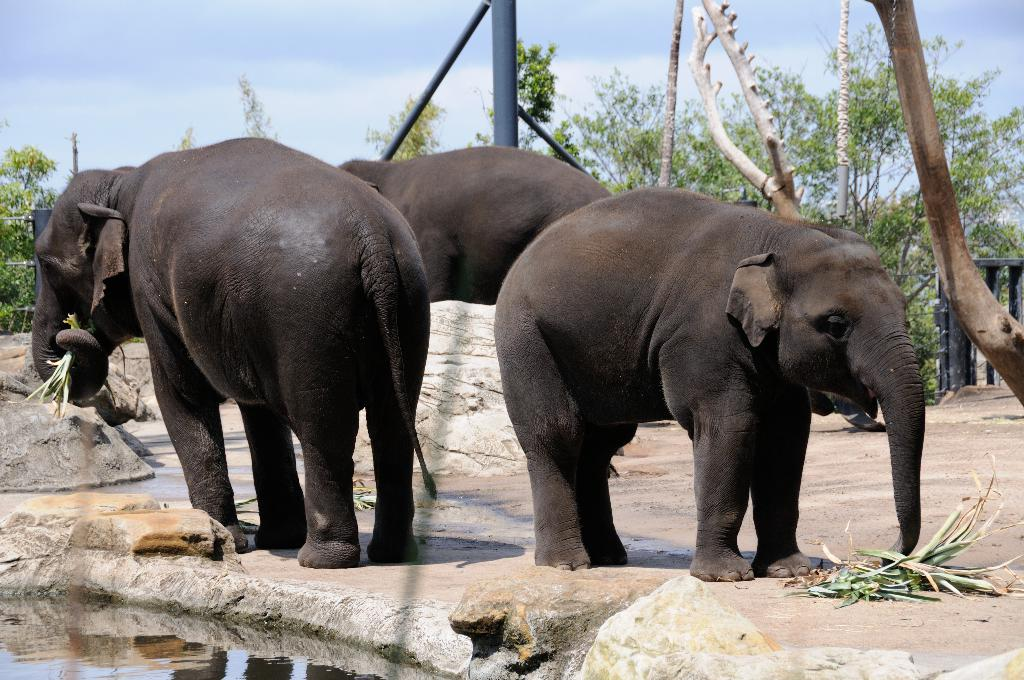Tree: (0, 0, 1023, 402)
